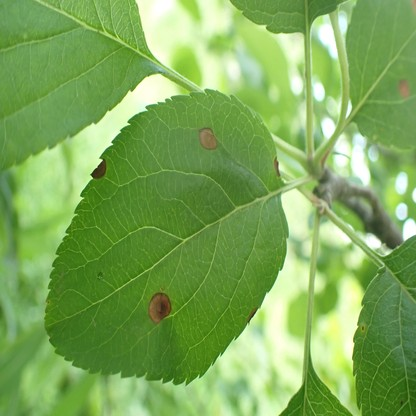frogeye: (148, 292, 171, 324), (198, 127, 218, 150), (90, 159, 107, 180), (399, 79, 410, 98), (274, 156, 280, 180)
